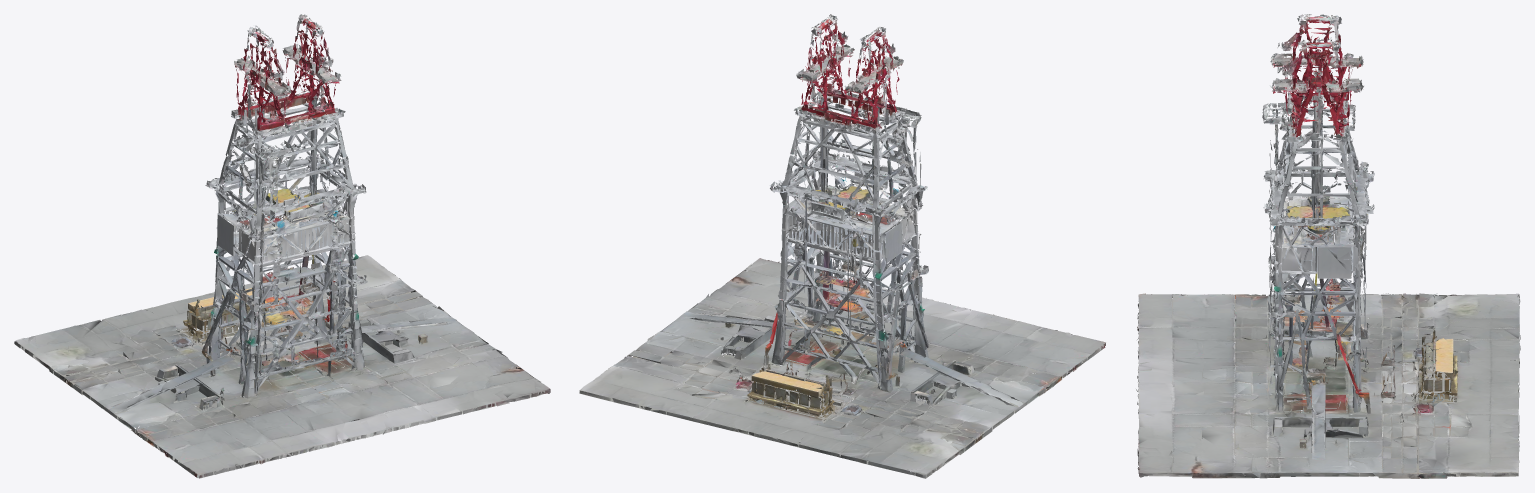
The model's file is structures.glb.
The picture shows the model from 3 angles, left to right: view 1: azimuth 30°, elevation 25°; view 2: azimuth 150°, elevation 25°; view 3: azimuth 270°, elevation 25°; orthographic projection. The views are drawn at different scales.
Visible parts, largest first — view 1: model; view 2: model; view 3: model.
Boxes of the visible parts, x1,y1,x2,y2 form: model: (14,14,550,478); model: (579,14,1105,478); model: (1136,14,1520,478).
Size of the model in its own units: 1.91 by 1.8 by 1.72.
Materials: 1 (1 with a texture image).
